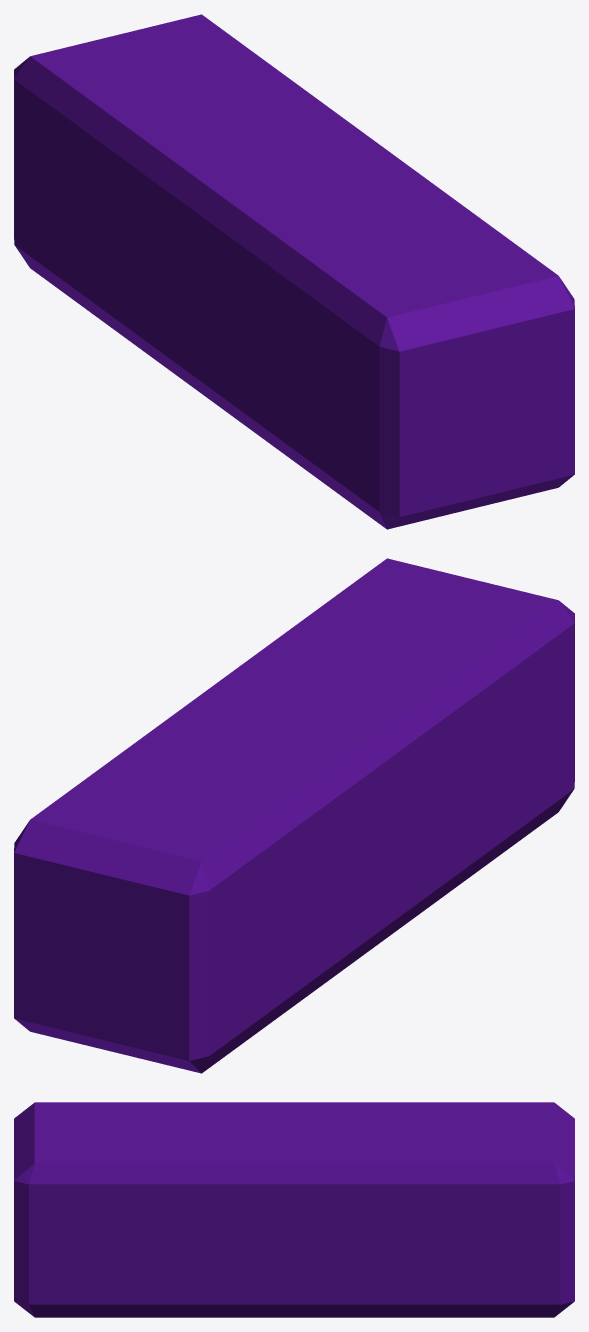
The model's file is BloqueVioleta.fbx.
3 renders of one model, top to bottom at view 1: azimuth 30°, elevation 25°; view 2: azimuth 150°, elevation 25°; view 3: azimuth 270°, elevation 25°, orthographic. The views are drawn at different scales.
Parts seen in each view (by area): view 1: Cube; view 2: Cube; view 3: Cube.
Part boxes in pixels (<box>): Cube: <box>14,14,574,529</box>; Cube: <box>14,558,574,1073</box>; Cube: <box>14,1102,574,1317</box>.
Bounding box in the file's own units: 111 × 115 × 380.
